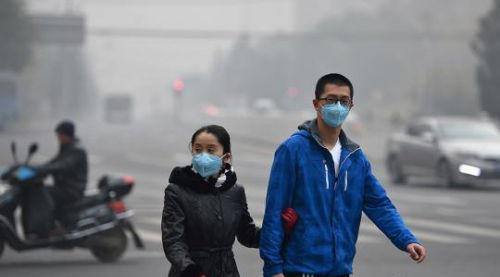OK: (319, 94, 352, 128), (192, 141, 223, 177)
